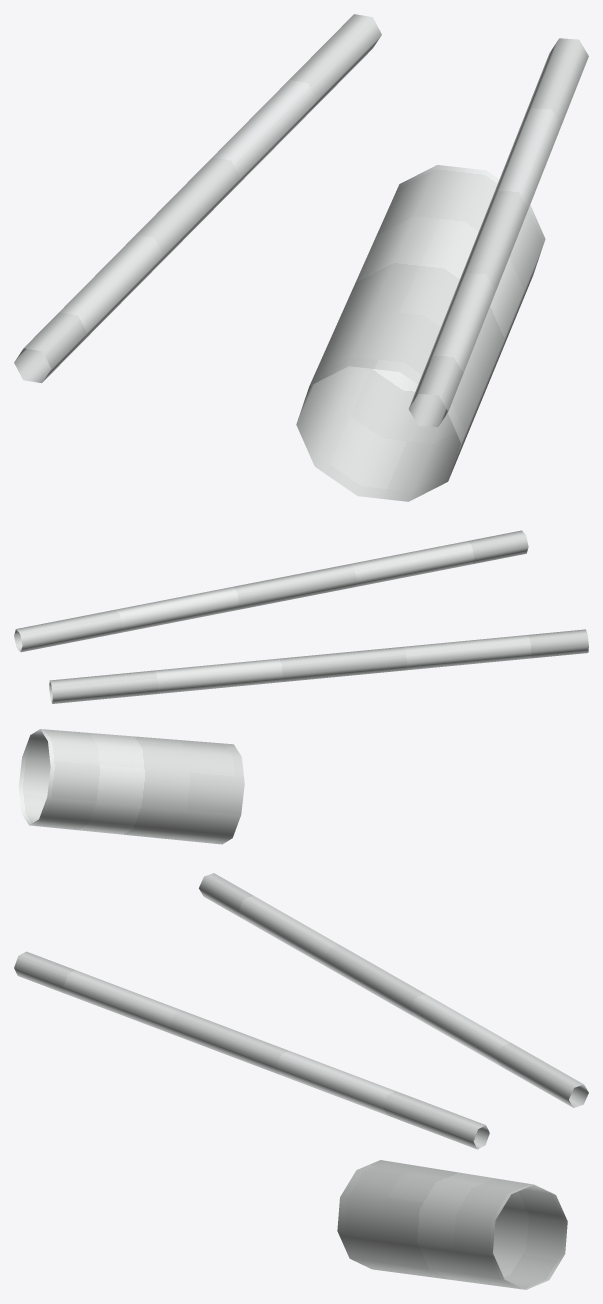
File: nycsignalarm_diagonal4_c6.obj
3 renders of one model, top to bottom at view 1: azimuth 30°, elevation 25°; view 2: azimuth 150°, elevation 25°; view 3: azimuth 270°, elevation 25°, orthographic. The views are drawn at different scales.
Parts seen in each view (by area): view 1: nycsignalarm_diagonal4_c6; view 2: nycsignalarm_diagonal4_c6; view 3: nycsignalarm_diagonal4_c6.
Part boxes in pixels (<box>): nycsignalarm_diagonal4_c6: <box>14,14,588,501</box>; nycsignalarm_diagonal4_c6: <box>14,530,588,844</box>; nycsignalarm_diagonal4_c6: <box>14,873,588,1289</box>.
Bounding box in the file's own units: 1.39 × 0.6296 × 1.39.
